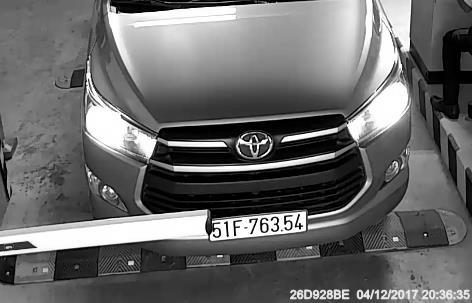License-plate: (195, 196, 321, 253)
